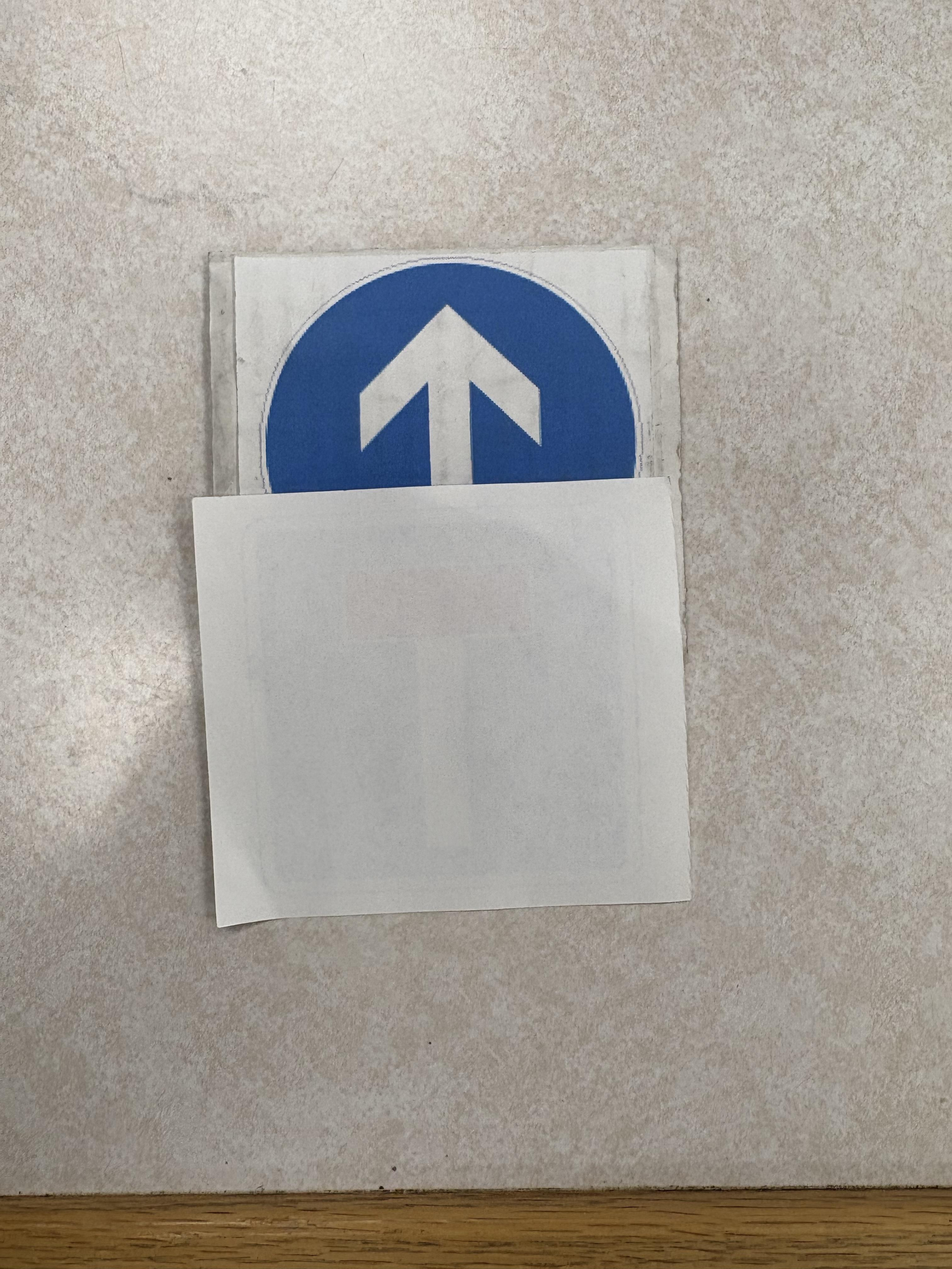Proceed Forward: (155, 336, 515, 668)
